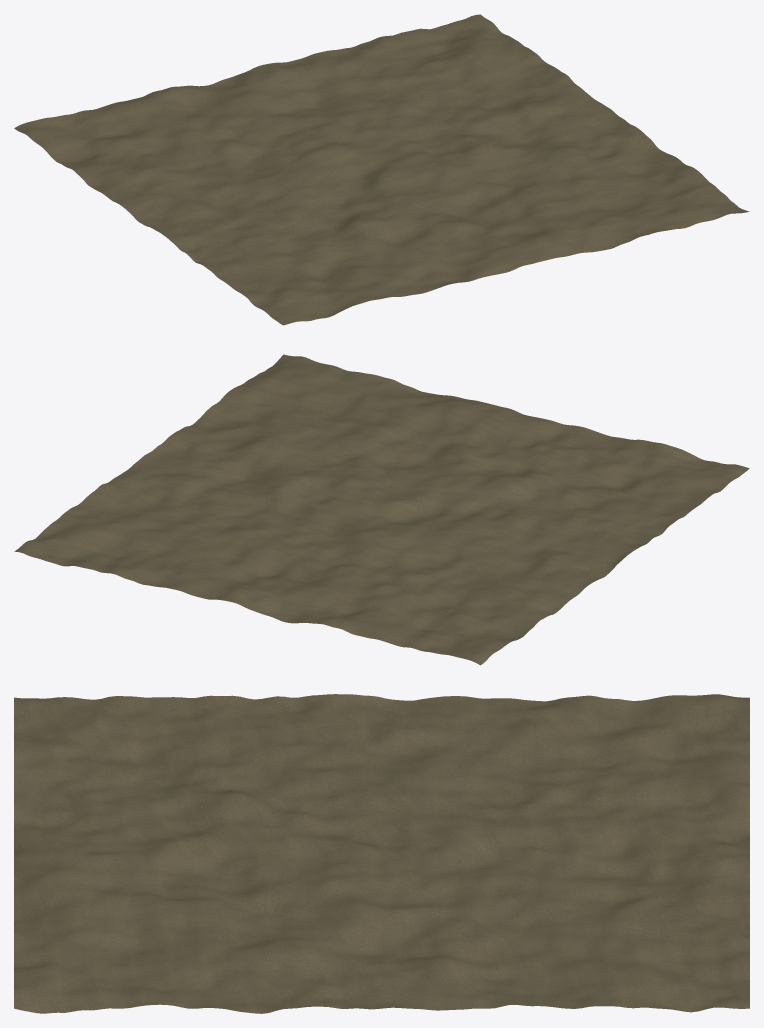
Rendered from Floor2.fbx.
3 views of the same model, one above another, from view 1: azimuth 30°, elevation 25°; view 2: azimuth 150°, elevation 25°; view 3: azimuth 270°, elevation 25° (orthographic). The views are drawn at different scales.
Parts seen in each view (by area): view 1: Plane.001; view 2: Plane.001; view 3: Plane.001.
Part boxes in pixels (x1=…): Plane.001: x1=14, y1=14, x2=749, y2=325; Plane.001: x1=14, y1=354, x2=749, y2=665; Plane.001: x1=14, y1=694, x2=749, y2=1013.
Bounding box in the file's own units: 20000 × 509 × 20000.
